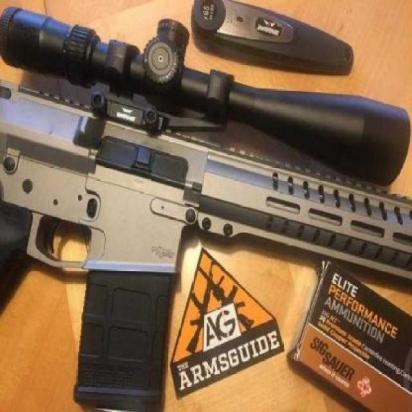Gun: (0, 38, 410, 412)
